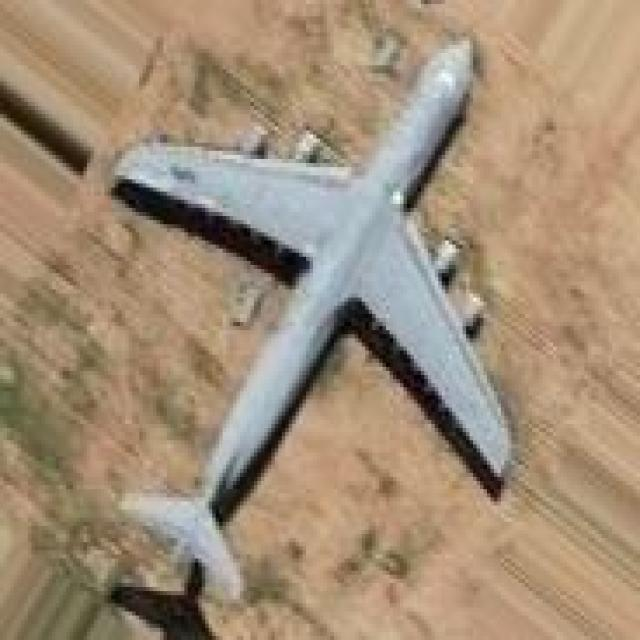C-5_TopDown: (104, 35, 523, 637)
